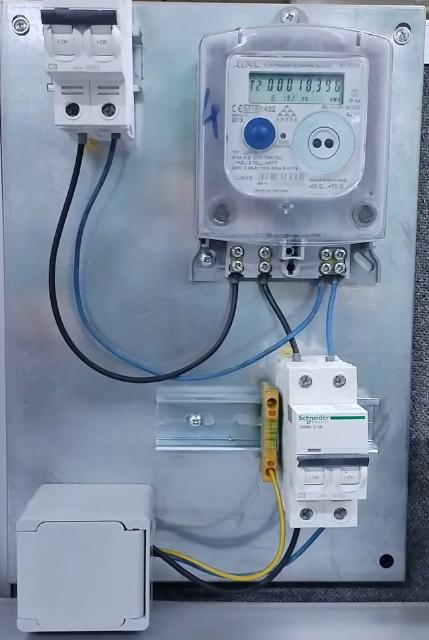electric-meter-detection: (196, 11, 412, 245)
